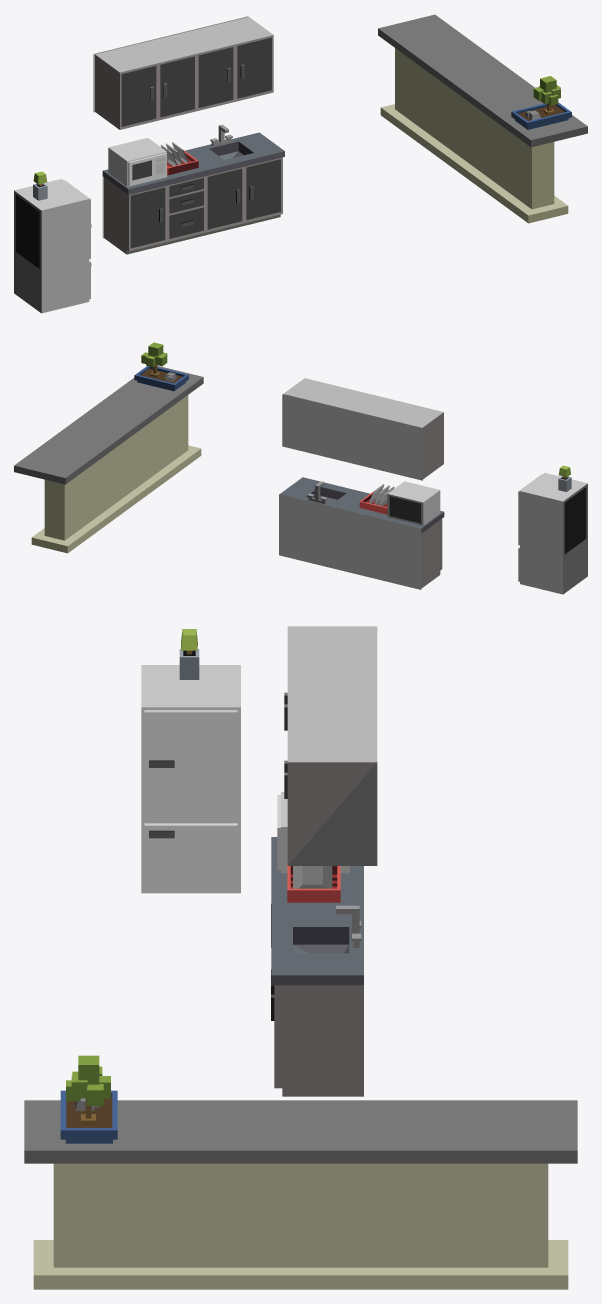
Rendered from Kitchen (1)_subsubset.FBX.
3 renders of one model, top to bottom at view 1: azimuth 30°, elevation 25°; view 2: azimuth 150°, elevation 25°; view 3: azimuth 270°, elevation 25°, orthographic. The views are drawn at different scales.
Parts seen in each view (by area): view 1: Prop_Bar_Bench (2), Prop_Cupboards_Black_3, Prop_Cupboards_Black_1, Prop_Fridge_01, Prop_Cupboards_Black_2, Prop_Bar_Bench_1, Prop_Cupboards_Black_4; view 2: Prop_Bar_Bench (2), Prop_Cupboards_Black_3, Cube, Prop_Fridge_01, Prop_Cupboards_Black_1, Prop_Cupboards_Black_2, Prop_Bar_Bench_1, Prop_Cupboards_Black_4; view 3: Prop_Bar_Bench (2), Prop_Fridge_01, Prop_Cupboards_Black_1, Prop_Cupboards_Black_3, Prop_Bar_Bench_1, Prop_Cupboards_Black_4, Prop_Fridge_01_1, Prop_Cupboards_Black_2.
Boxes of the visible parts, x1,y1,x2,y2 form: Prop_Bar_Bench (2): [378, 14, 587, 223]; Prop_Cupboards_Black_3: [102, 124, 284, 254]; Prop_Cupboards_Black_1: [95, 17, 273, 129]; Prop_Fridge_01: [14, 179, 91, 313]; Prop_Cupboards_Black_2: [108, 138, 166, 186]; Prop_Bar_Bench_1: [511, 76, 571, 129]; Prop_Cupboards_Black_4: [160, 142, 198, 175]; Prop_Bar_Bench (2): [14, 365, 203, 553]; Prop_Cupboards_Black_3: [279, 477, 444, 589]; Cube: [283, 394, 422, 480]; Prop_Fridge_01: [518, 473, 587, 594]; Prop_Cupboards_Black_1: [282, 378, 443, 478]; Prop_Cupboards_Black_2: [387, 481, 440, 525]; Prop_Bar_Bench_1: [134, 342, 188, 391]; Prop_Cupboards_Black_4: [359, 484, 394, 514]; Prop_Bar_Bench (2): [24, 1100, 577, 1289]; Prop_Fridge_01: [141, 665, 240, 893]; Prop_Cupboards_Black_1: [284, 626, 377, 865]; Prop_Cupboards_Black_3: [271, 837, 363, 1096]; Prop_Bar_Bench_1: [60, 1055, 117, 1143]; Prop_Cupboards_Black_4: [287, 863, 340, 902]; Prop_Fridge_01_1: [179, 629, 199, 679]; Prop_Cupboards_Black_2: [277, 792, 349, 873].
Bounding box in the file's own units: 1078 × 367 × 555.
Materials: 2 (1 with a texture image).
